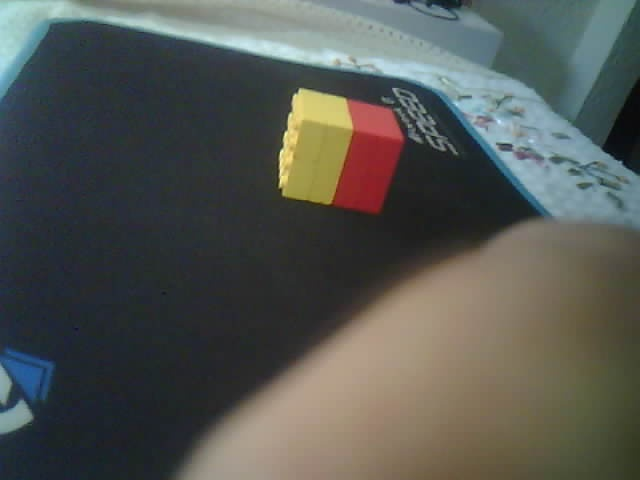lego: (277, 86, 405, 216)
